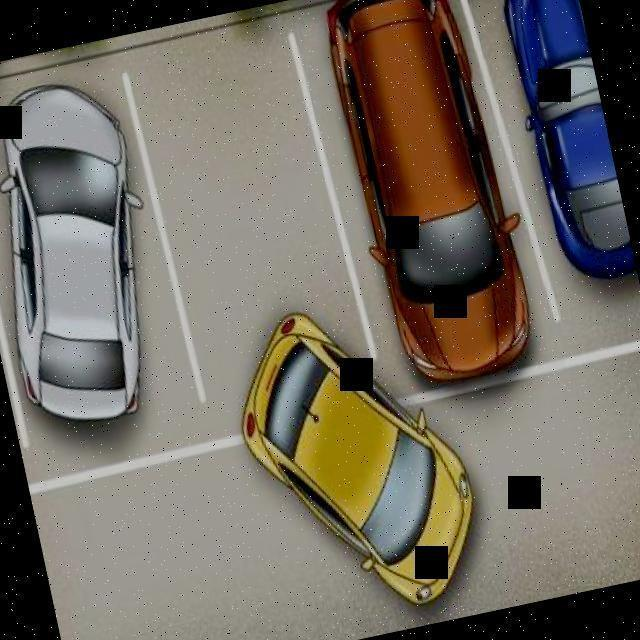empty: (150, 47, 329, 321)
occupied: (314, 0, 529, 389), (0, 85, 186, 455), (232, 385, 496, 634), (492, 0, 637, 290)
